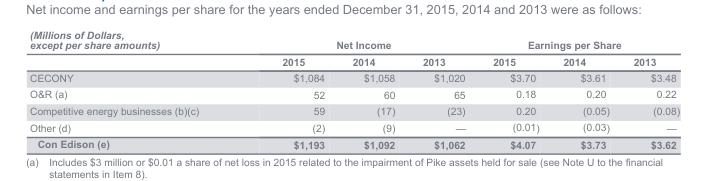table: (29, 28, 679, 149)
table column: (29, 28, 239, 149), (239, 28, 337, 149), (478, 28, 550, 149), (337, 28, 408, 149), (408, 28, 478, 149), (550, 28, 620, 149), (620, 28, 679, 149)
table column header: (29, 28, 679, 69)
table row: (29, 28, 679, 52), (29, 52, 679, 69), (29, 85, 679, 102), (29, 118, 679, 135), (29, 69, 679, 85), (29, 102, 679, 118), (29, 135, 679, 149)
table spanning cell: (29, 28, 239, 69), (239, 28, 478, 52), (478, 28, 679, 52)
